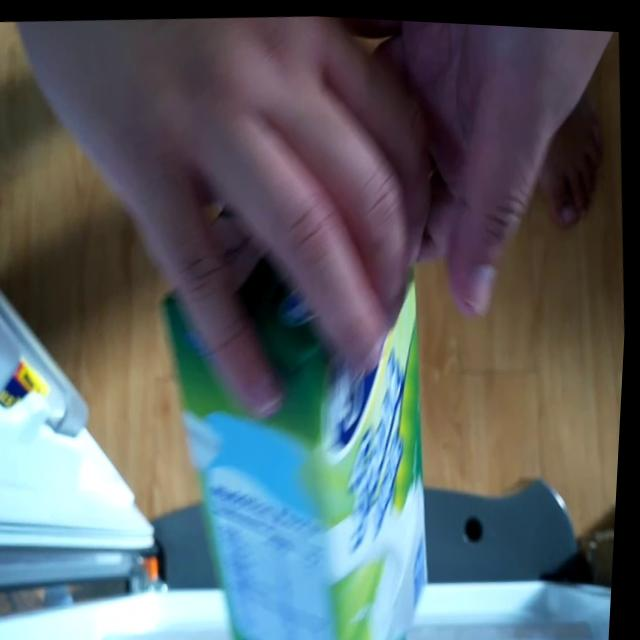milk: (139, 178, 458, 640)
